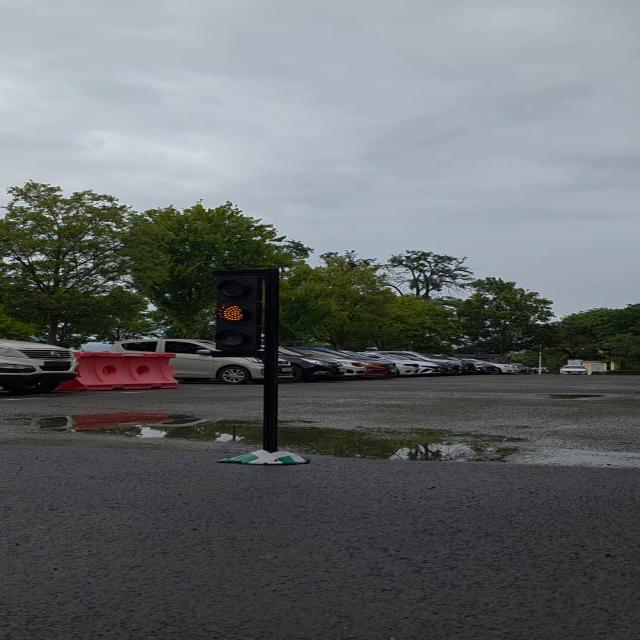yellow: (216, 273, 267, 355)
